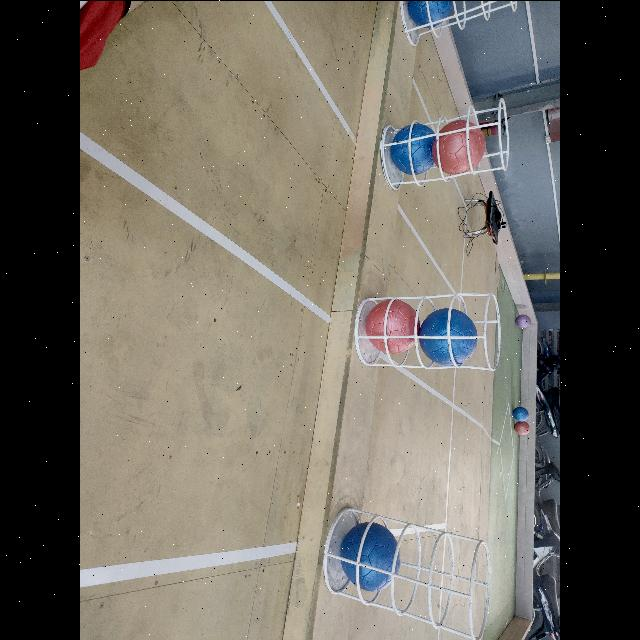B: (340, 522, 400, 590), (420, 308, 478, 366), (390, 124, 438, 176), (406, 0, 452, 26), (512, 404, 528, 420)
R: (433, 118, 487, 174), (368, 298, 420, 352), (514, 421, 530, 434)
